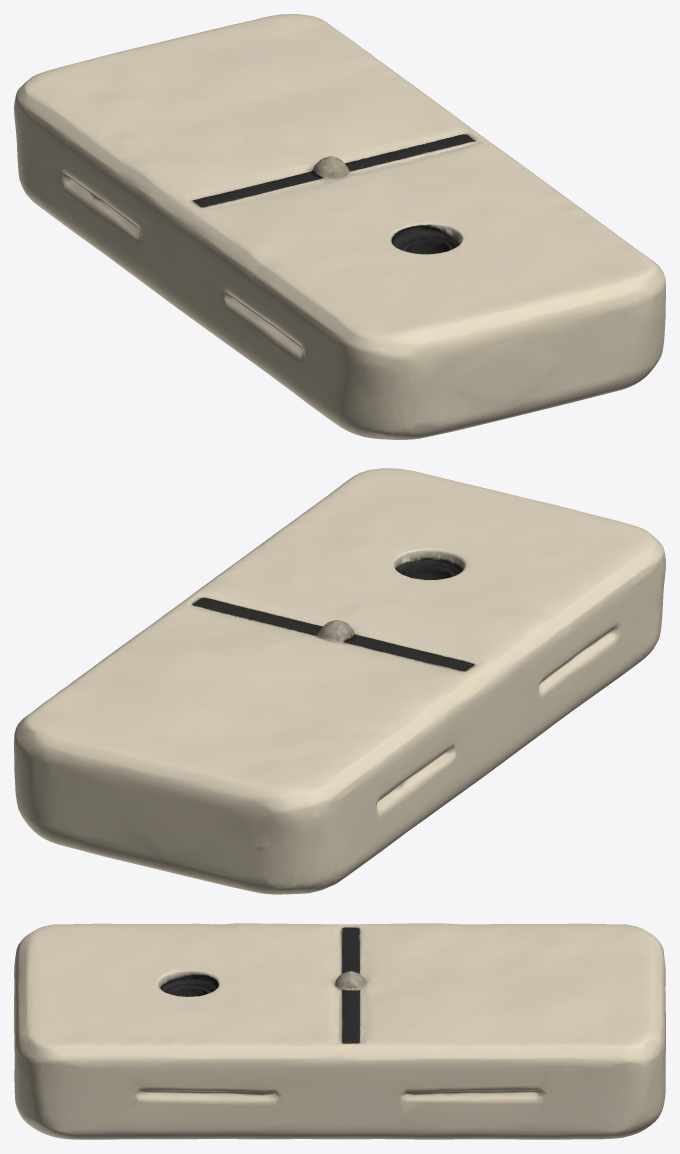
File: 1-0-domino.glb
The picture shows the model from 3 angles, top to bottom: view 1: azimuth 30°, elevation 25°; view 2: azimuth 150°, elevation 25°; view 3: azimuth 270°, elevation 25°; orthographic projection. The views are drawn at different scales.
Parts seen in each view (by area): view 1: tripo_node_e482129a-4a2b-4c7a-a757-9cfb9d9e83a1; view 2: tripo_node_e482129a-4a2b-4c7a-a757-9cfb9d9e83a1; view 3: tripo_node_e482129a-4a2b-4c7a-a757-9cfb9d9e83a1.
Boxes of the visible parts, left/top/right/bottom form: tripo_node_e482129a-4a2b-4c7a-a757-9cfb9d9e83a1: left=14, top=14, right=665, bottom=439; tripo_node_e482129a-4a2b-4c7a-a757-9cfb9d9e83a1: left=14, top=468, right=665, bottom=894; tripo_node_e482129a-4a2b-4c7a-a757-9cfb9d9e83a1: left=14, top=923, right=665, bottom=1139.
Size of the model in its own units: 0.4743 by 0.1796 by 0.9804.
Materials: 1 (1 with a texture image).
